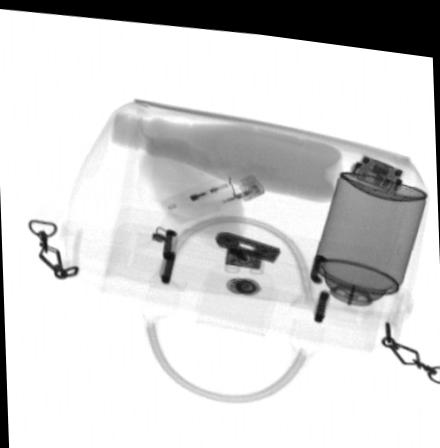Lighter: (156, 156, 265, 219)
Sprayer: (287, 161, 426, 340)
